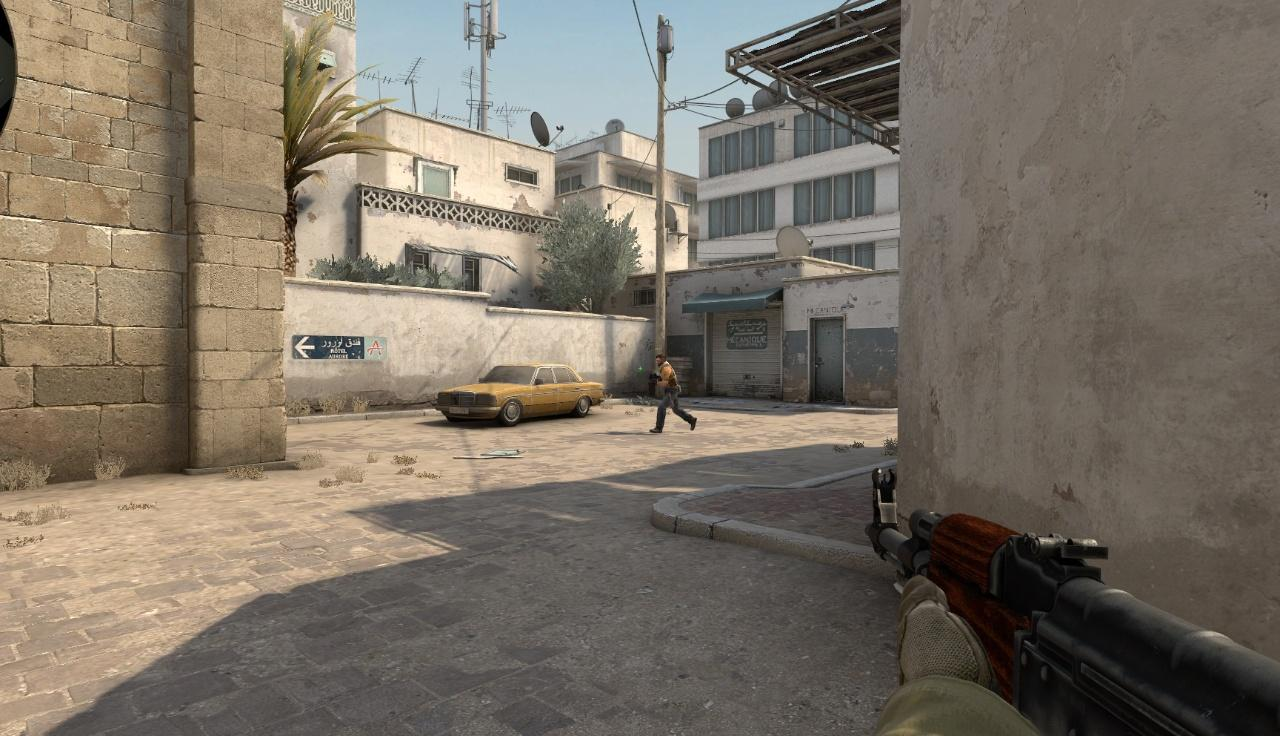rifle: (871, 469, 1280, 736)
tt: (655, 355, 687, 433)
tthead: (655, 355, 667, 368)
